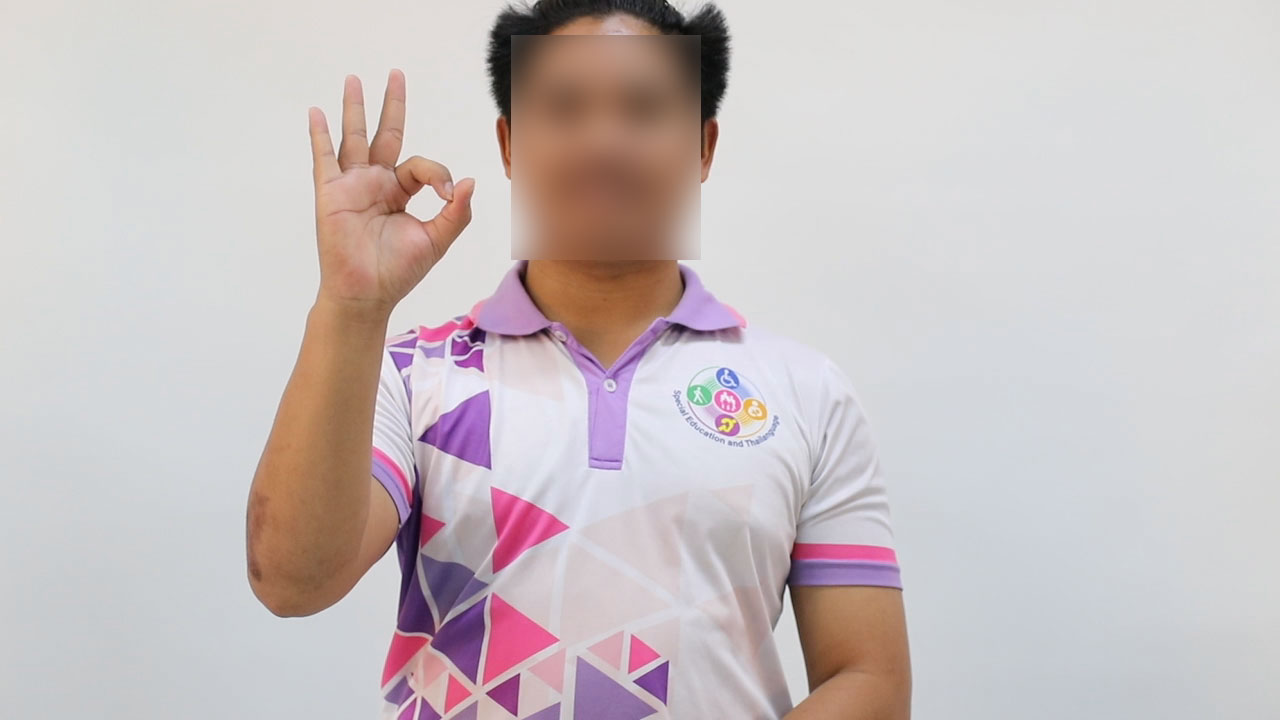for: (286, 55, 485, 334)
